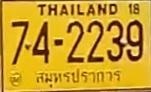2: (67, 20, 84, 62), (87, 21, 104, 63)
3: (106, 20, 124, 61)
4: (32, 21, 49, 63)
7: (11, 20, 28, 64)
9: (126, 20, 143, 61)
SPK: (33, 68, 123, 86)
